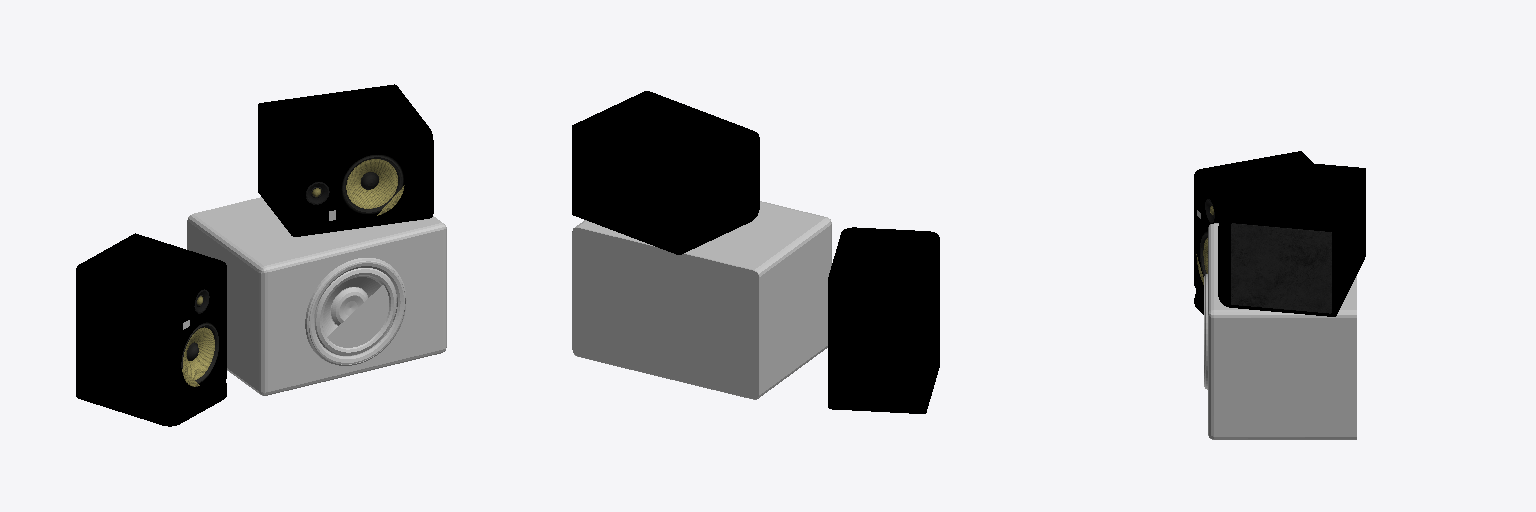
The picture shows the model from 3 angles: view 1: azimuth 30°, elevation 25°; view 2: azimuth 150°, elevation 25°; view 3: azimuth 270°, elevation 25°; orthographic projection.
Parts seen in each view (by area): view 1: Sub_Base_Cube.006, Speaker_Base.001_Cube, Speaker_Base_Cube, Sub_Woofer_Cube.002, Speaker_Woofer_Cube.004, Speaker_Woofer.001_Cube.004; view 2: Sub_Base_Cube.006, Speaker_Base_Cube, Speaker_Base.001_Cube; view 3: Sub_Base_Cube.006, Speaker_Base_Cube, Speaker_Base.001_Cube.
Boxes of the visible parts, box(x1,y1,x2,y2) form: Sub_Base_Cube.006: box(187, 197, 446, 395); Speaker_Base.001_Cube: box(76, 233, 226, 426); Speaker_Base_Cube: box(258, 84, 433, 236); Sub_Woofer_Cube.002: box(315, 268, 396, 355); Speaker_Woofer_Cube.004: box(341, 155, 403, 213); Speaker_Woofer.001_Cube.004: box(181, 322, 218, 383); Sub_Base_Cube.006: box(572, 201, 831, 399); Speaker_Base_Cube: box(572, 91, 759, 254); Speaker_Base.001_Cube: box(828, 227, 939, 413); Sub_Base_Cube.006: box(1204, 223, 1356, 439); Speaker_Base_Cube: box(1218, 159, 1365, 316); Speaker_Base.001_Cube: box(1194, 151, 1312, 314).
Size of the model in its own units: 0.7455 by 0.4654 by 0.3273.
Materials: 3 (1 with a texture image).